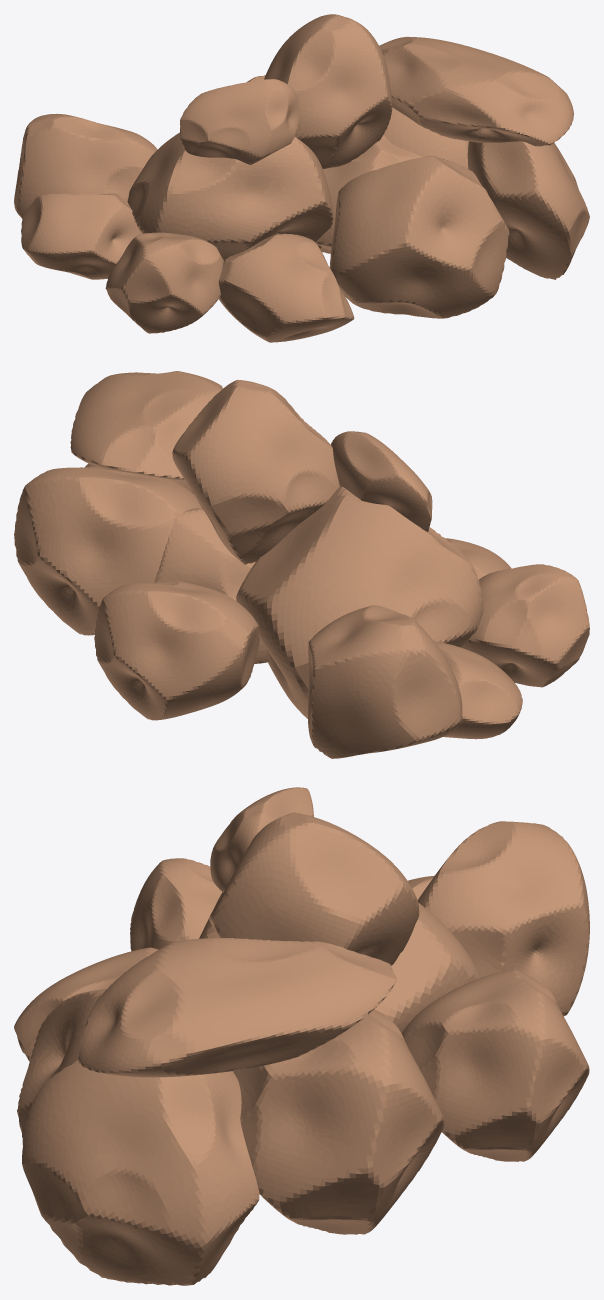
Rendered from Iron stone.fbx.
The picture shows the model from 3 angles, top to bottom: view 1: azimuth 30°, elevation 25°; view 2: azimuth 150°, elevation 25°; view 3: azimuth 270°, elevation 25°; orthographic projection. The views are drawn at different scales.
Visible parts, largest first — view 1: Cube.003, Cube.007, Cube.011, Cube.008, Cube.015, Cube.012, Cube.001, Cube.002, Cube.009, Cube.010, Cube.006, Cube.004; view 2: Cube.007, Cube.004, Cube.008, Cube.001, Cube.014, Cube.011, Cube.002, Cube.010, Cube.006, Cube.009, Cube.012; view 3: Cube.015, Cube.011, Cube.004, Cube.014, Cube.001, Cube.008, Cube.007, Cube.002, Cube.003, Cube.010, Cube.012.
Part boxes in pixels (box(x1,y1,x2,y2)): Cube.003: box(329, 155, 509, 318); Cube.007: box(127, 132, 333, 260); Cube.011: box(379, 36, 573, 146); Cube.008: box(264, 14, 392, 168); Cube.015: box(467, 141, 589, 279); Cube.012: box(218, 233, 354, 342); Cube.001: box(14, 113, 157, 218); Cube.002: box(105, 232, 223, 333); Cube.009: box(21, 193, 141, 279); Cube.010: box(180, 79, 299, 164); Cube.006: box(315, 134, 422, 253); Cube.004: box(384, 107, 468, 168); Cube.007: box(236, 486, 483, 718); Cube.004: box(14, 466, 201, 635); Cube.008: box(172, 380, 339, 564); Cube.001: box(308, 605, 462, 758); Cube.014: box(94, 580, 259, 720); Cube.011: box(70, 371, 222, 480); Cube.002: box(461, 564, 589, 687); Cube.010: box(331, 431, 432, 531); Cube.006: box(154, 508, 268, 663); Cube.009: box(434, 641, 522, 739); Cube.012: box(446, 538, 511, 579); Cube.015: box(22, 1060, 259, 1285); Cube.011: box(78, 938, 396, 1077); Cube.004: box(233, 1009, 444, 1234); Cube.014: box(402, 969, 589, 1161); Cube.001: box(418, 821, 589, 1016); Cube.008: box(209, 812, 419, 965); Cube.007: box(199, 892, 480, 1033); Cube.002: box(130, 858, 222, 951); Cube.003: box(17, 989, 106, 1138); Cube.010: box(210, 787, 313, 892); Cube.012: box(14, 947, 158, 1061).
Size of the model in its own units: 103 by 52.59 by 76.31.
